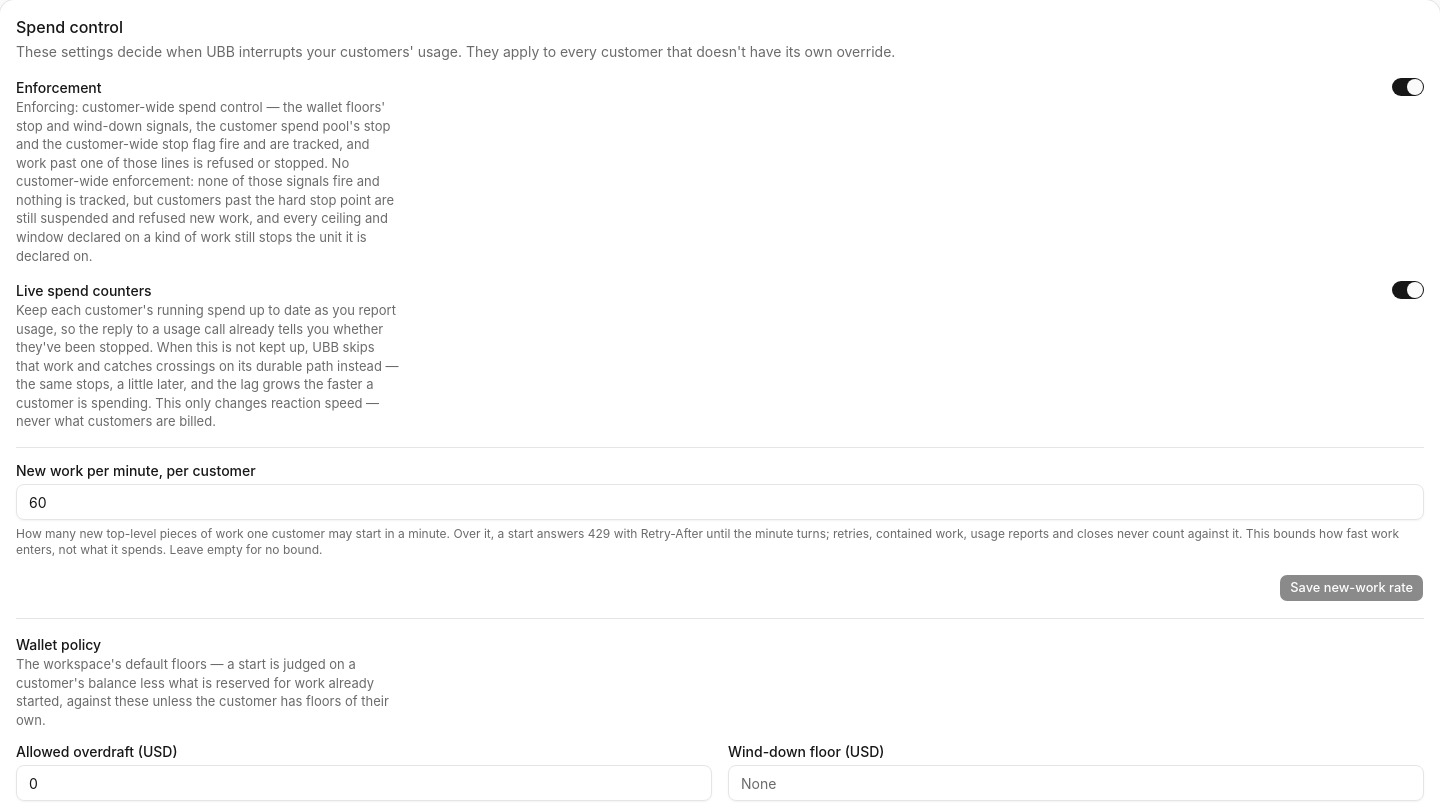
Test: SpendControlCard › asks before stopping customer-wide enforcement, and never says off there either
Click the switch named "Enforcement": {"x": 1408, "y": 87} [1392,78,1424,96]
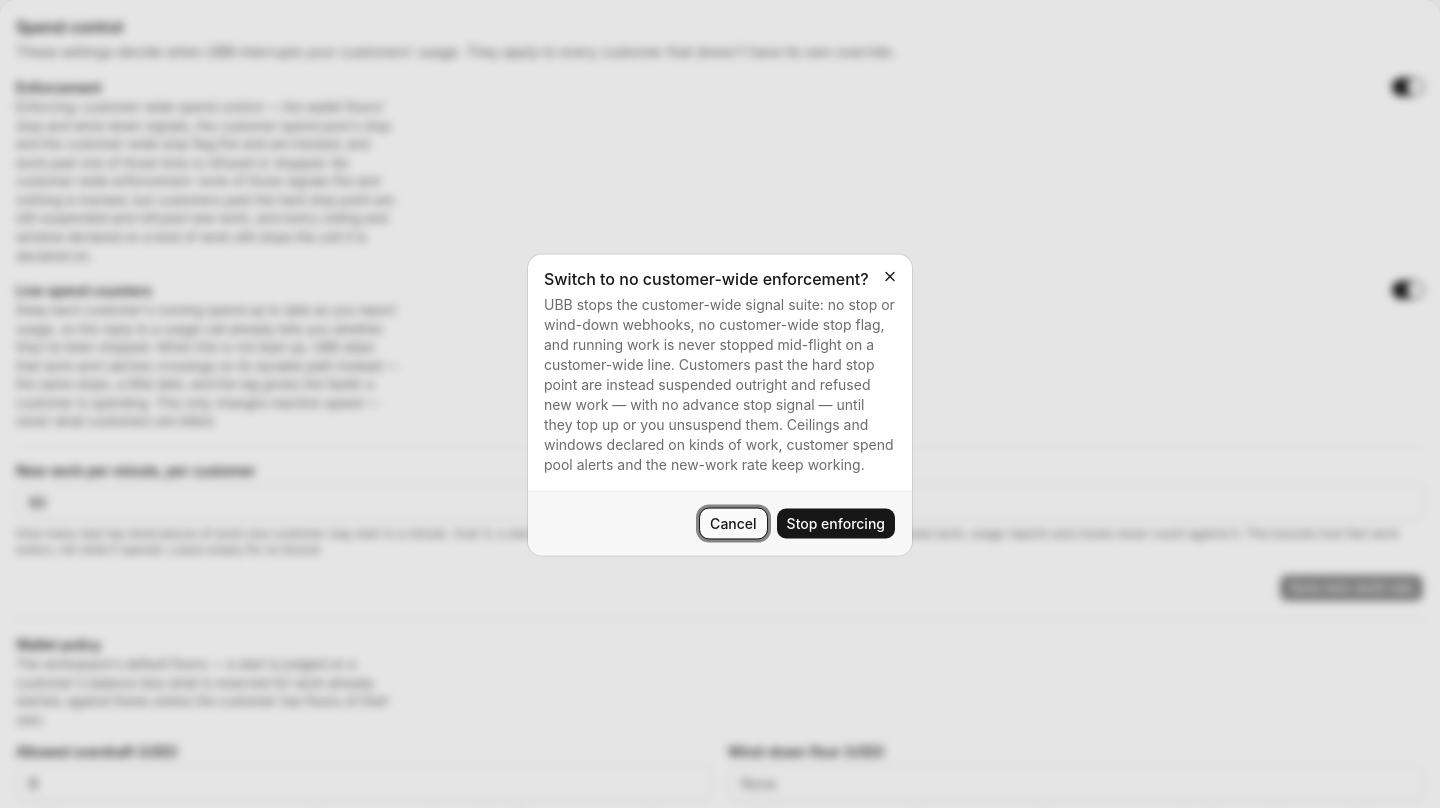
Expected: the heading "Switch to no customer-wide enforcement?" is shown, [544,270,896,286]
Expected: the text "the new-work rate keep working" is shown, [544,296,895,472]
Expected: the button "Stop enforcing" is shown, [776,508,896,540]
